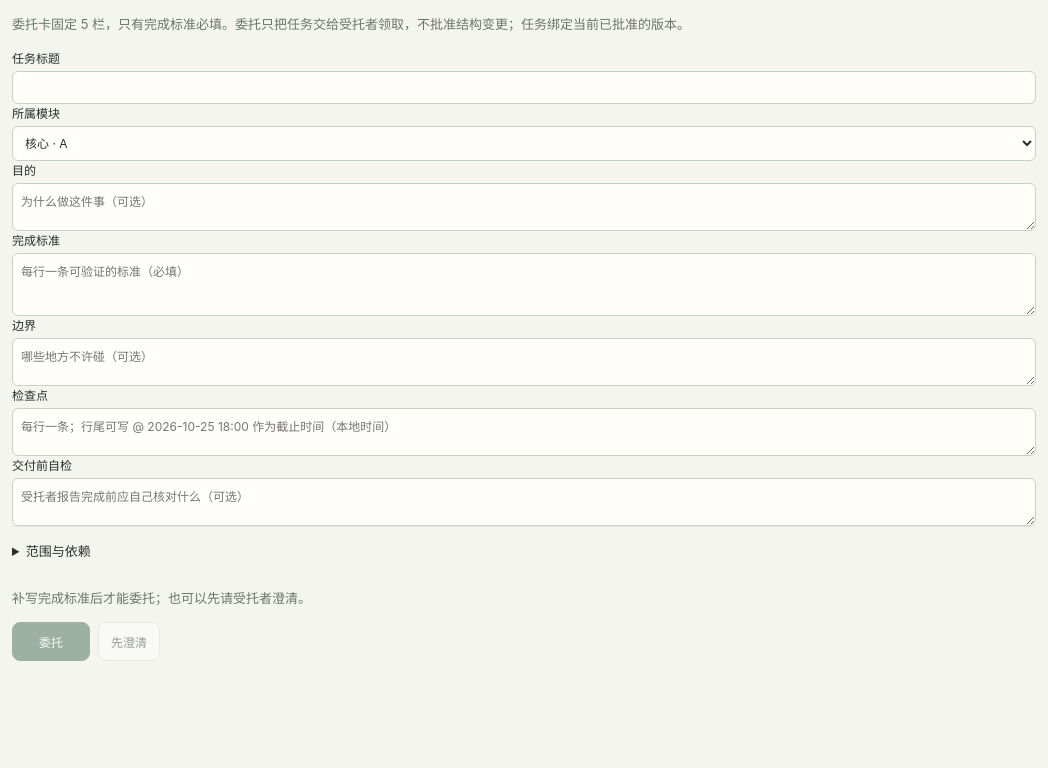
Test: delegation card fields (FR-184) › keeps the five fields in fixed order and disables assign without done_when
Type "补齐校验" into the field labelled "任务标题" at [524, 88], box [12, 71, 1036, 104]
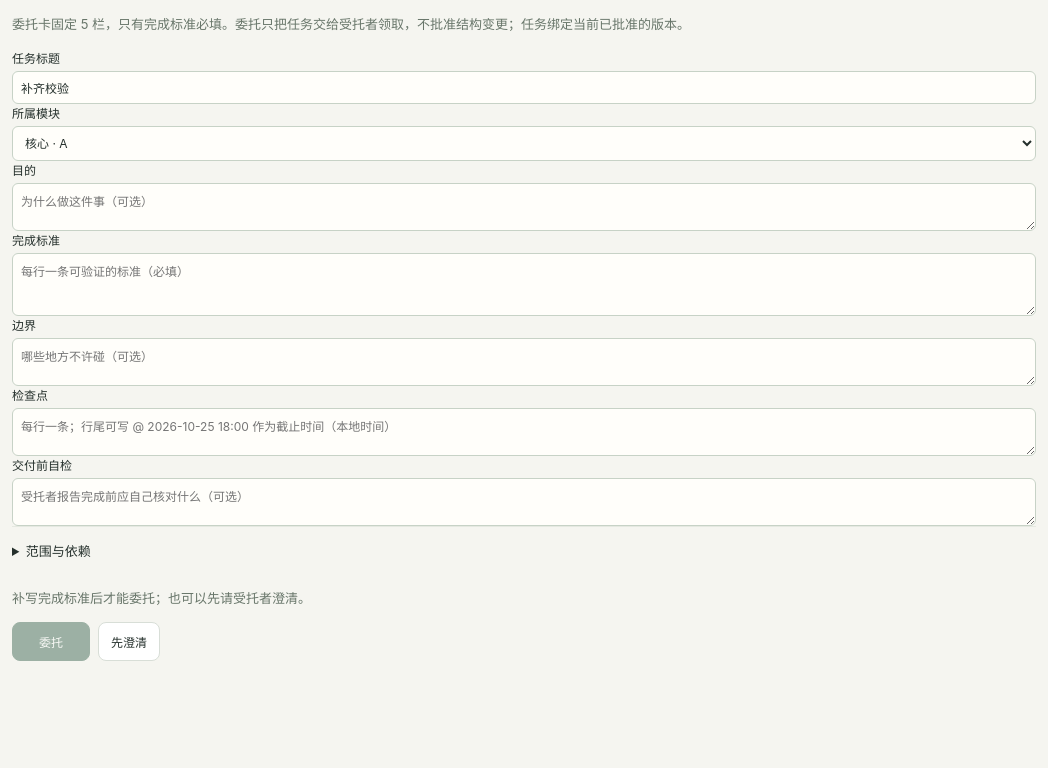
Expected: the button "委托" is disabled, [12, 622, 90, 661]
Result: the button "先澄清" is enabled at [98, 622, 160, 661]
